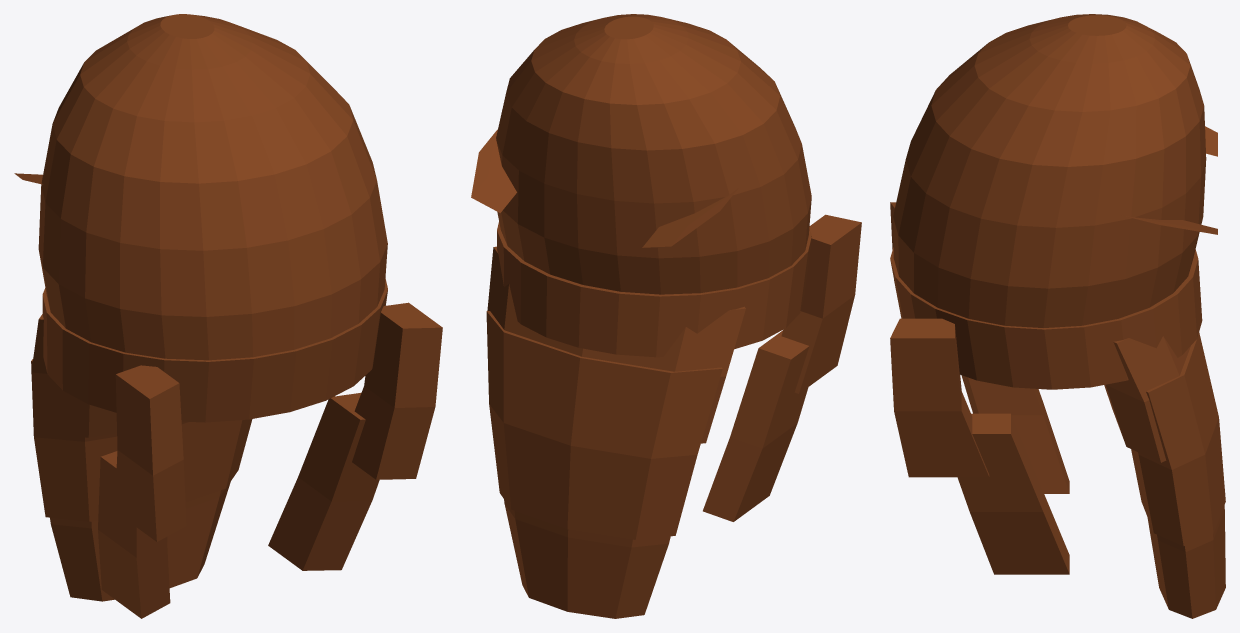
File: hair_girl_long_layers_01.glb
3 views of the same model, side by side, from view 1: azimuth 30°, elevation 25°; view 2: azimuth 150°, elevation 25°; view 3: azimuth 270°, elevation 25° (orthographic). The views are drawn at different scales.
Visible parts, largest first — view 1: Layers_Crown_Cap, Layers_Scalp_Collar, Layers_Face_Frame_R_1, Layers_Face_Frame_R_2, Layers_Face_Frame_L_1, Layers_Back_Mid, Layers_Face_Frame_L_2, Layers_Back_Lower, Layers_Back_Upper; view 2: Layers_Crown_Cap, Layers_Back_Mid, Layers_Scalp_Collar, Layers_Back_Lower, Layers_Face_Frame_L_2, Layers_Face_Frame_L_1, Layers_Back_Upper, Layers_Crown_Sweep_R, Layers_Crown_Sweep_L; view 3: Layers_Crown_Cap, Layers_Scalp_Collar, Layers_Back_Mid, Layers_Face_Frame_R_1, Layers_Face_Frame_R_2, Layers_Back_Upper, Layers_Back_Lower, Layers_Face_Frame_L_2, Layers_Crown_Sweep_R.
Part boxes in pixels (left/top/right/bottom): Layers_Crown_Cap: left=38, top=14, right=387, bottom=360; Layers_Scalp_Collar: left=42, top=278, right=387, bottom=422; Layers_Face_Frame_R_1: left=352, top=302, right=442, bottom=479; Layers_Face_Frame_R_2: left=268, top=392, right=379, bottom=570; Layers_Face_Frame_L_1: left=114, top=365, right=186, bottom=541; Layers_Back_Mid: left=31, top=359, right=252, bottom=521; Layers_Face_Frame_L_2: left=98, top=451, right=170, bottom=618; Layers_Back_Lower: left=50, top=482, right=230, bottom=601; Layers_Back_Upper: left=31, top=314, right=182, bottom=437; Layers_Crown_Cap: left=496, top=14, right=811, bottom=294; Layers_Back_Mid: left=486, top=311, right=722, bottom=539; Layers_Scalp_Collar: left=497, top=222, right=811, bottom=357; Layers_Back_Lower: left=504, top=499, right=670, bottom=618; Layers_Face_Frame_L_2: left=703, top=330, right=809, bottom=521; Layers_Face_Frame_L_1: left=781, top=214, right=861, bottom=393; Layers_Back_Upper: left=487, top=246, right=745, bottom=443; Layers_Crown_Sweep_R: left=471, top=129, right=516, bottom=212; Layers_Crown_Sweep_L: left=642, top=188, right=738, bottom=247; Layers_Crown_Cap: left=893, top=14, right=1206, bottom=327; Layers_Scalp_Collar: left=890, top=247, right=1202, bottom=389; Layers_Back_Mid: left=1131, top=332, right=1225, bottom=546; Layers_Face_Frame_R_1: left=890, top=318, right=989, bottom=477; Layers_Face_Frame_R_2: left=957, top=413, right=1069, bottom=574; Layers_Back_Upper: left=1104, top=336, right=1190, bottom=462; Layers_Back_Lower: left=1147, top=505, right=1225, bottom=618; Layers_Face_Frame_L_2: left=961, top=375, right=1069, bottom=493; Layers_Crown_Sweep_R: left=1122, top=215, right=1217, bottom=234.
Bounding box in the file's own units: 0.346 × 0.632 × 0.342.
